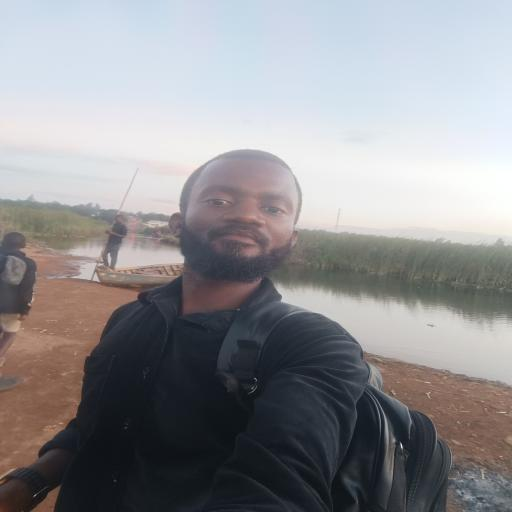MATTHIEU: (176, 140, 302, 294)
